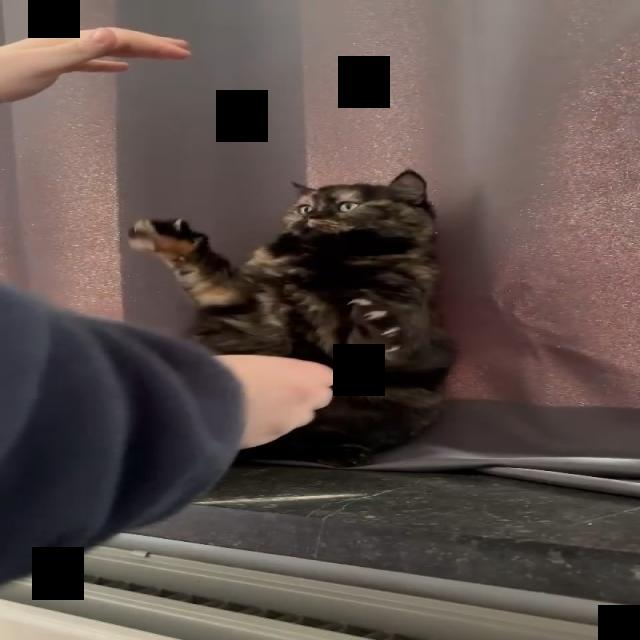authorized: (127, 167, 457, 468)
